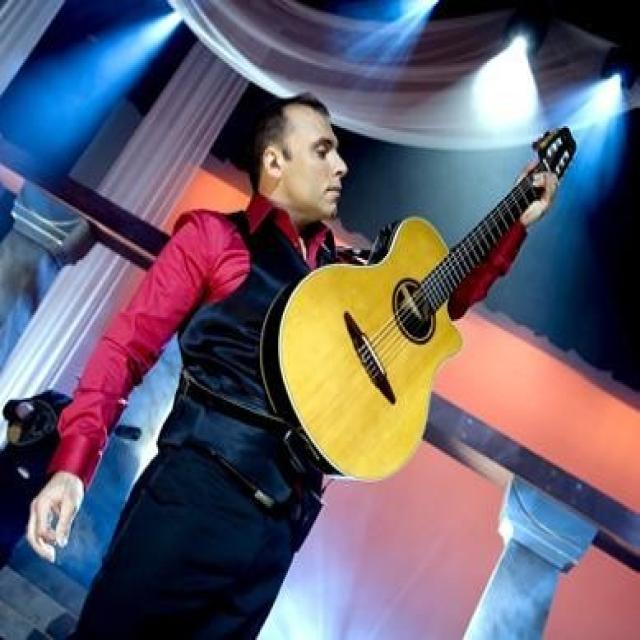guitar: (256, 121, 580, 486), (2, 392, 144, 451)
